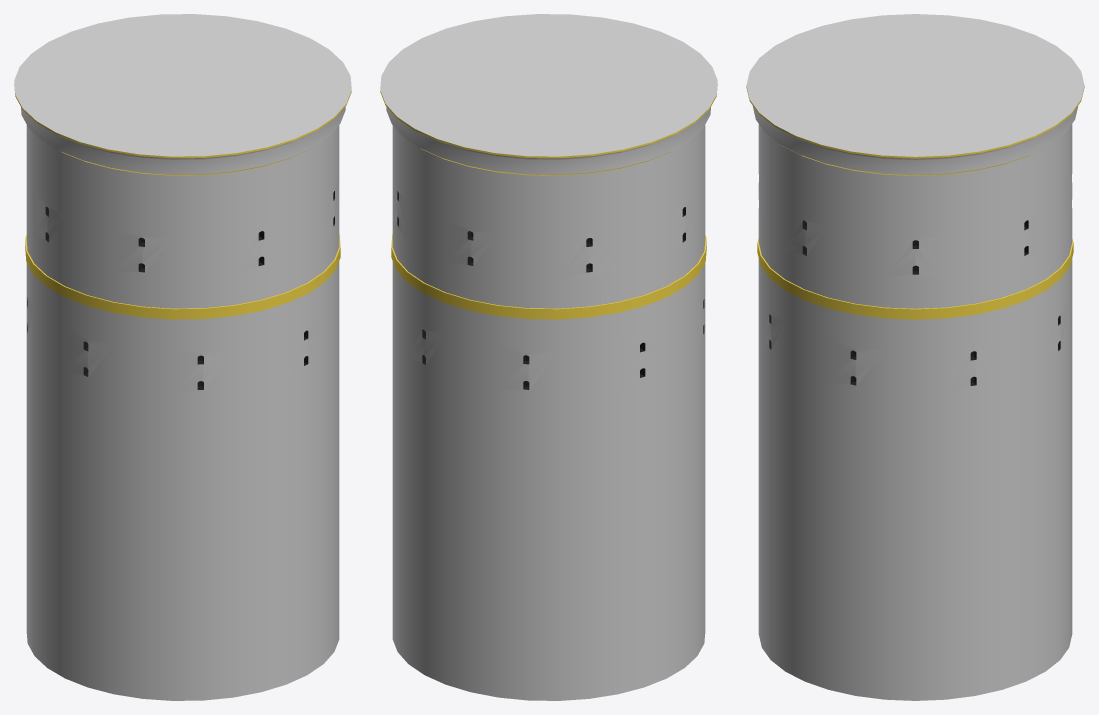
Rendered from building_withplatform_01.fbx.
The picture shows the model from 3 angles, left to right: view 1: azimuth 30°, elevation 25°; view 2: azimuth 150°, elevation 25°; view 3: azimuth 270°, elevation 25°; orthographic projection.
Parts seen in each view (by area): view 1: building_with platform; view 2: building_with platform; view 3: building_with platform.
Boxes of the visible parts, <box> form: building_with platform: <box>14,14,351,700</box>; building_with platform: <box>380,14,717,700</box>; building_with platform: <box>746,14,1084,700</box>.
Bounding box in the file's own units: 228 × 409 × 228.
